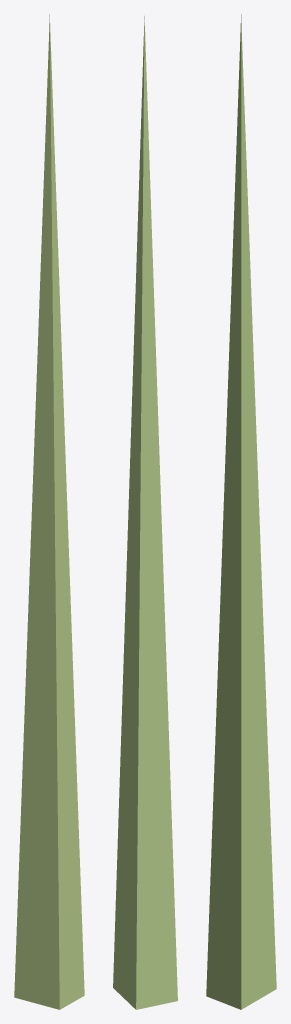
File: grass_blade.glb
3 views of the same model, side by side, from view 1: azimuth 90°, elevation 25°; view 2: azimuth 150°, elevation 25°; view 3: azimuth 270°, elevation 25° (orthographic).
Visible parts, largest first — view 1: Cone; view 2: Cone; view 3: Cone.
Part boxes in pixels (x1,y1,x2,y2): Cone: (14, 14, 84, 1009); Cone: (113, 16, 177, 1009); Cone: (206, 14, 276, 1009).
Bounding box in the file's own units: 0.0383 × 0.6 × 0.039.
